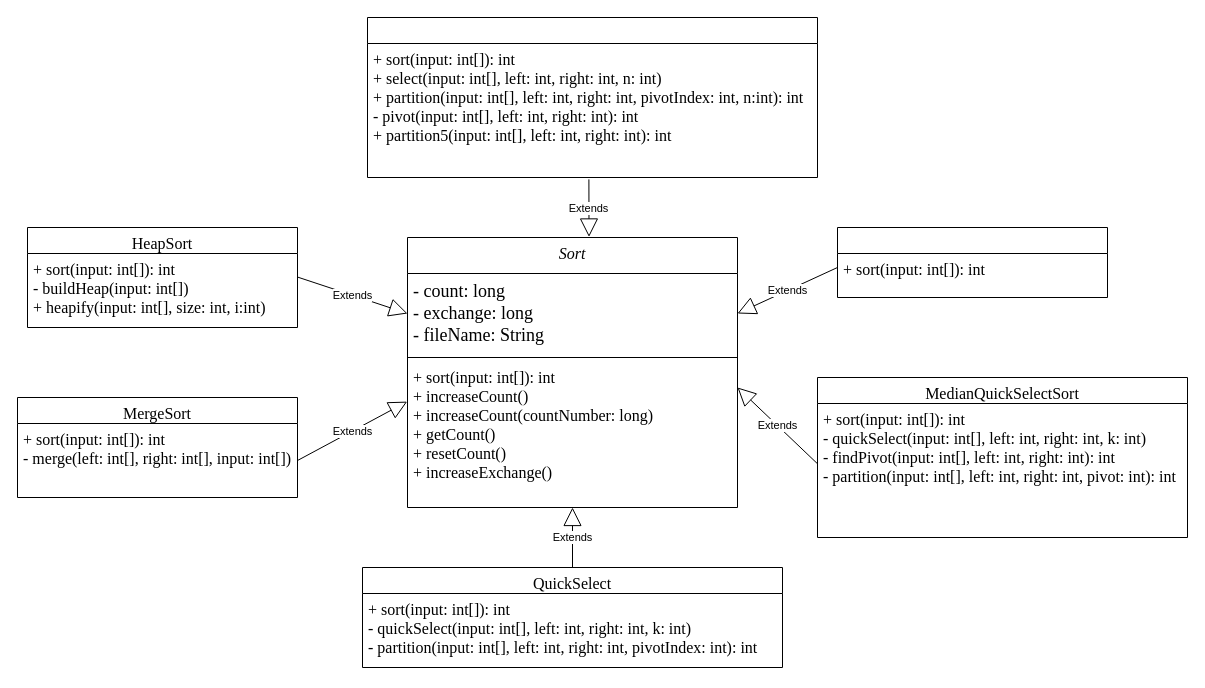
The diagram is 1205 pixels wide and 688 high, and some of its shapes have lost their labels. The box of each missing label's shape, as (x1, y1, x2, y2) in pixels:
InsertionSort: (836, 226, 1108, 298)
MedianOfMedians: (366, 16, 818, 178)
